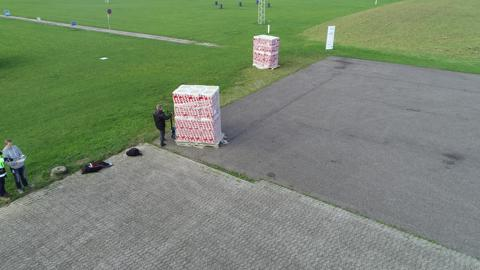RockwoolPallet: (172, 84, 225, 143)
